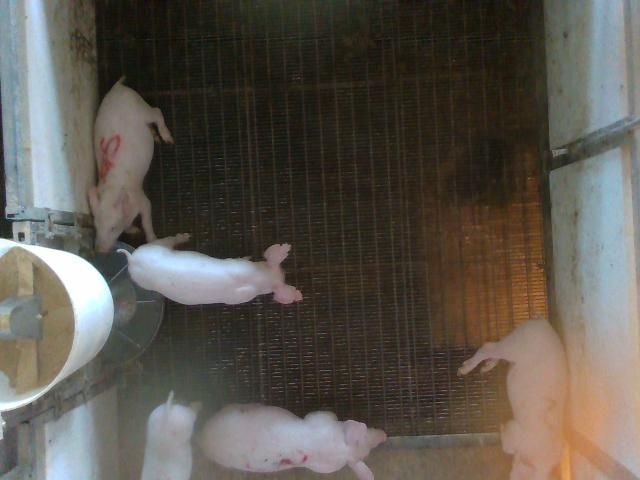pig-2: (458, 319, 568, 478)
pig-3: (199, 404, 386, 479)
pig-5: (88, 76, 174, 251)
